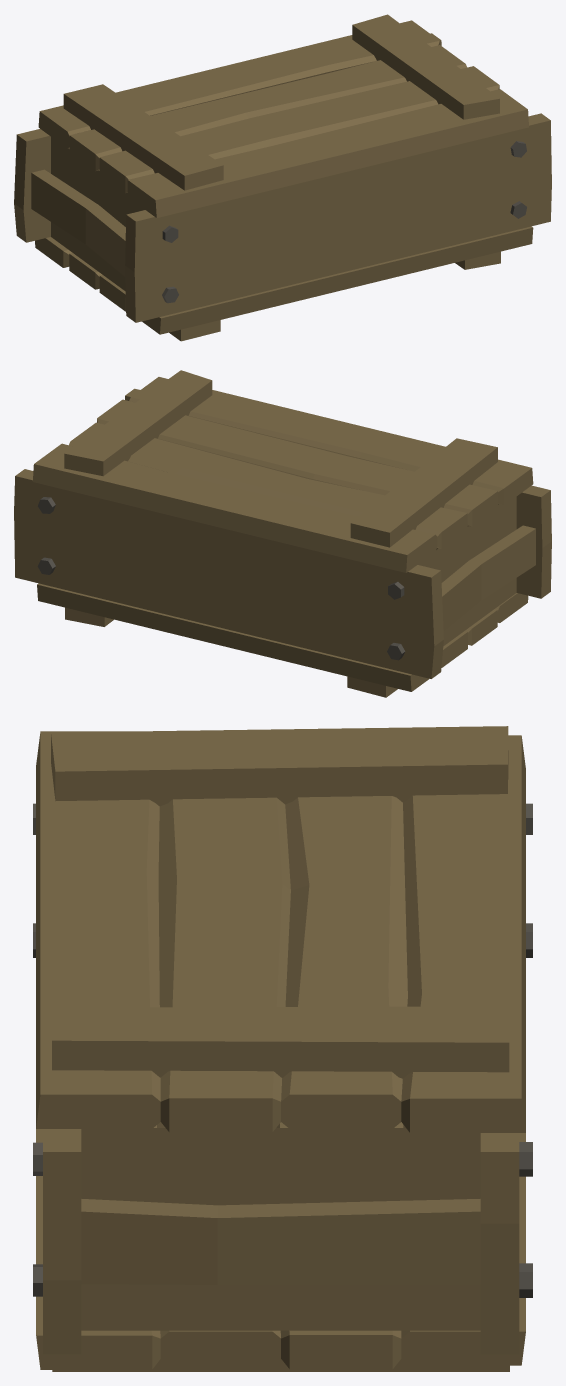
The model's file is Crate_6.fbx.
The picture shows the model from 3 angles, top to bottom: view 1: azimuth 30°, elevation 25°; view 2: azimuth 150°, elevation 25°; view 3: azimuth 270°, elevation 25°; orthographic projection. The views are drawn at different scales.
Visible parts, largest first — view 1: Crate_6; view 2: Crate_6; view 3: Crate_6.
Part boxes in pixels (<box>): Crate_6: <box>14,14,551,341</box>; Crate_6: <box>14,370,551,697</box>; Crate_6: <box>33,726,532,1371</box>.
Size of the model in its own units: 71.77 by 27.01 by 37.07.
